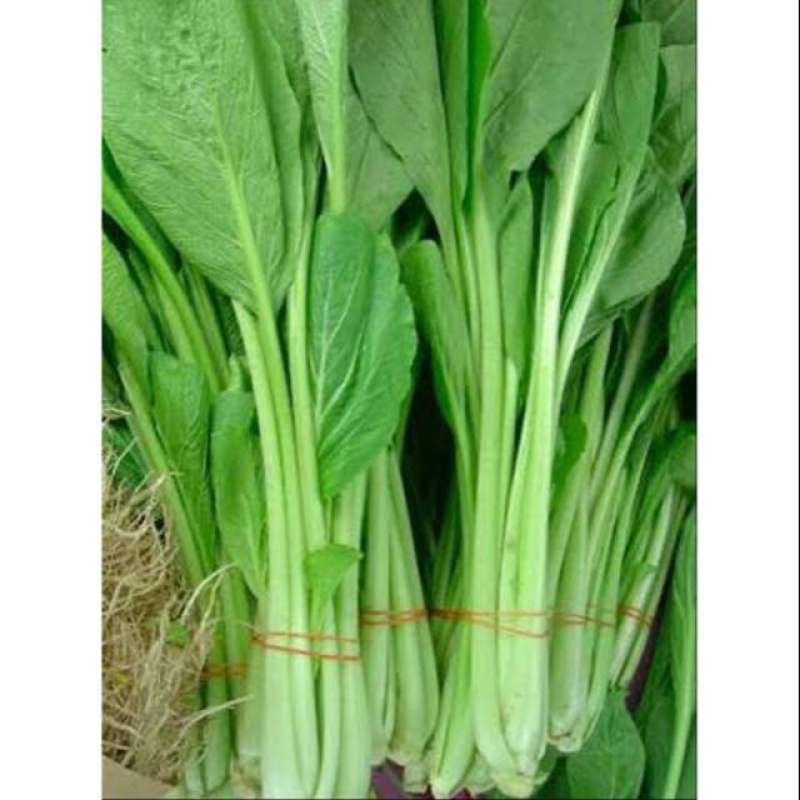Sawi: (101, 15, 581, 761)
